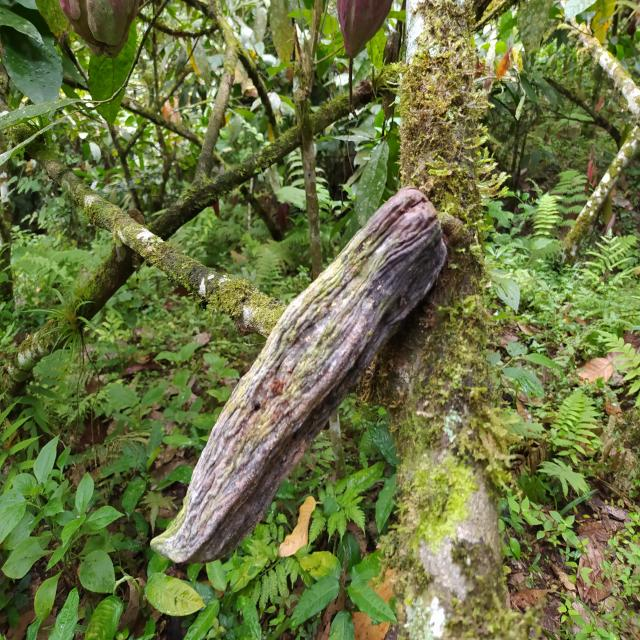Fitoftora: (148, 180, 448, 562)
